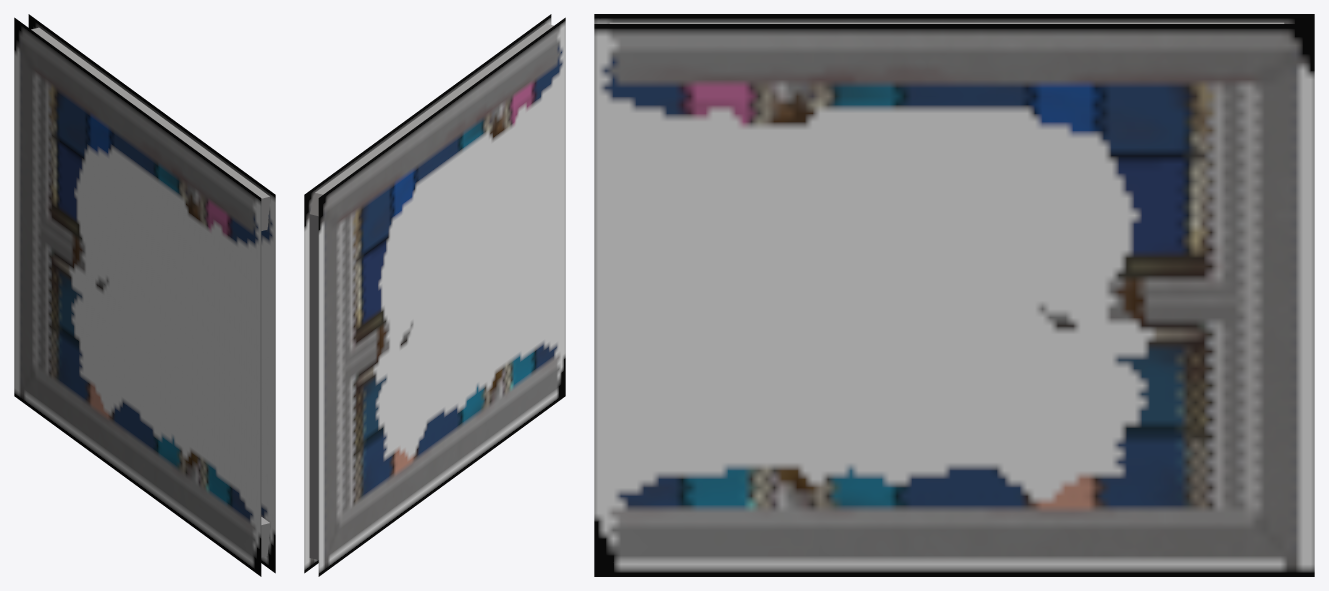
The model's file is pz_native_location_community_church_small_01_252_frame.obj.
The picture shows the model from 3 angles, left to right: view 1: azimuth 30°, elevation 25°; view 2: azimuth 150°, elevation 25°; view 3: azimuth 270°, elevation 25°; orthographic projection. The views are drawn at different scales.
Parts seen in each view (by area): view 1: pz_native_location_community_church_small_01_252_frame; view 2: pz_native_location_community_church_small_01_252_frame; view 3: pz_native_location_community_church_small_01_252_frame.
Part boxes in pixels (x1,y1,x2,y2): pz_native_location_community_church_small_01_252_frame: (14, 14, 275, 576); pz_native_location_community_church_small_01_252_frame: (304, 14, 565, 576); pz_native_location_community_church_small_01_252_frame: (594, 14, 1314, 576).
Size of the model in its own units: 0.04 by 1.02 by 1.2.
Materials: 1 (1 with a texture image).
